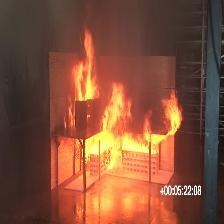fire: (45, 6, 180, 199)
